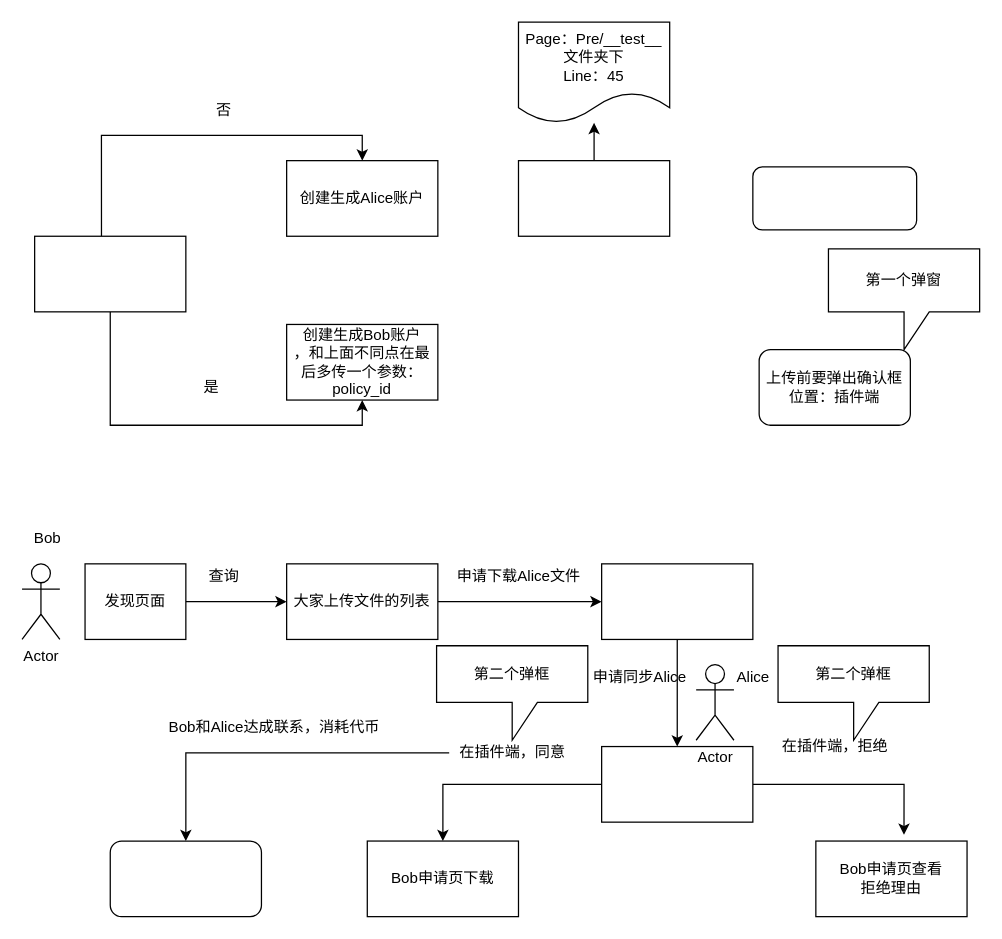
Image size: 1002x939. Some labels were removed from this diagram. The centre of each missing label's shape, as x and y in pixels:
"Alice的审核页面" belongs at pixel 676 783.
"Bob的申请页面" belongs at pixel 676 601.
"FileReader二进制格式 读取上传的文件" belongs at pixel 834 198.
"上传文件示例" belongs at pixel 593 197.
"代币账户支付" belongs at pixel 185 878.
"关联策略勾选" belongs at pixel 109 273.
